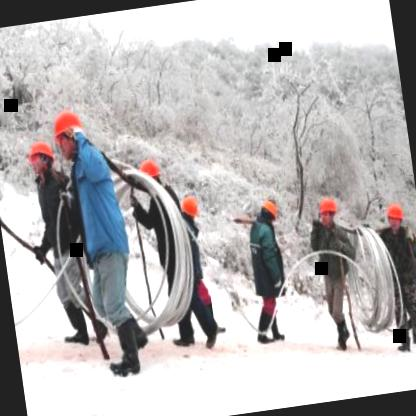helmet: (48, 104, 88, 158), (24, 137, 58, 181), (133, 154, 165, 200), (317, 195, 341, 229), (256, 198, 280, 230), (178, 192, 201, 225), (384, 196, 404, 232)
